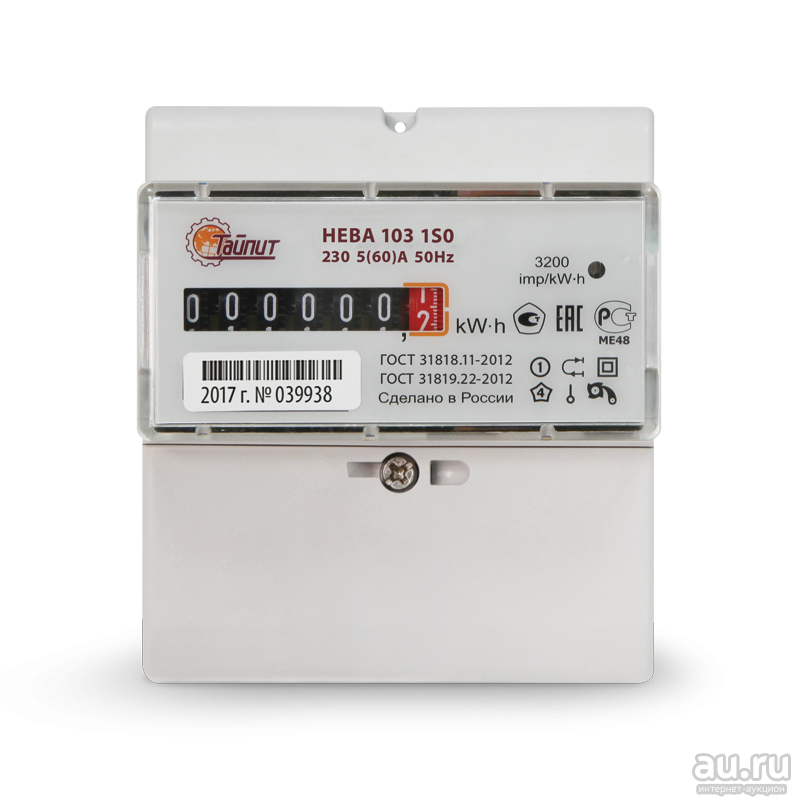counter: (134, 101, 667, 680)
counter_screen: (179, 280, 451, 341)
